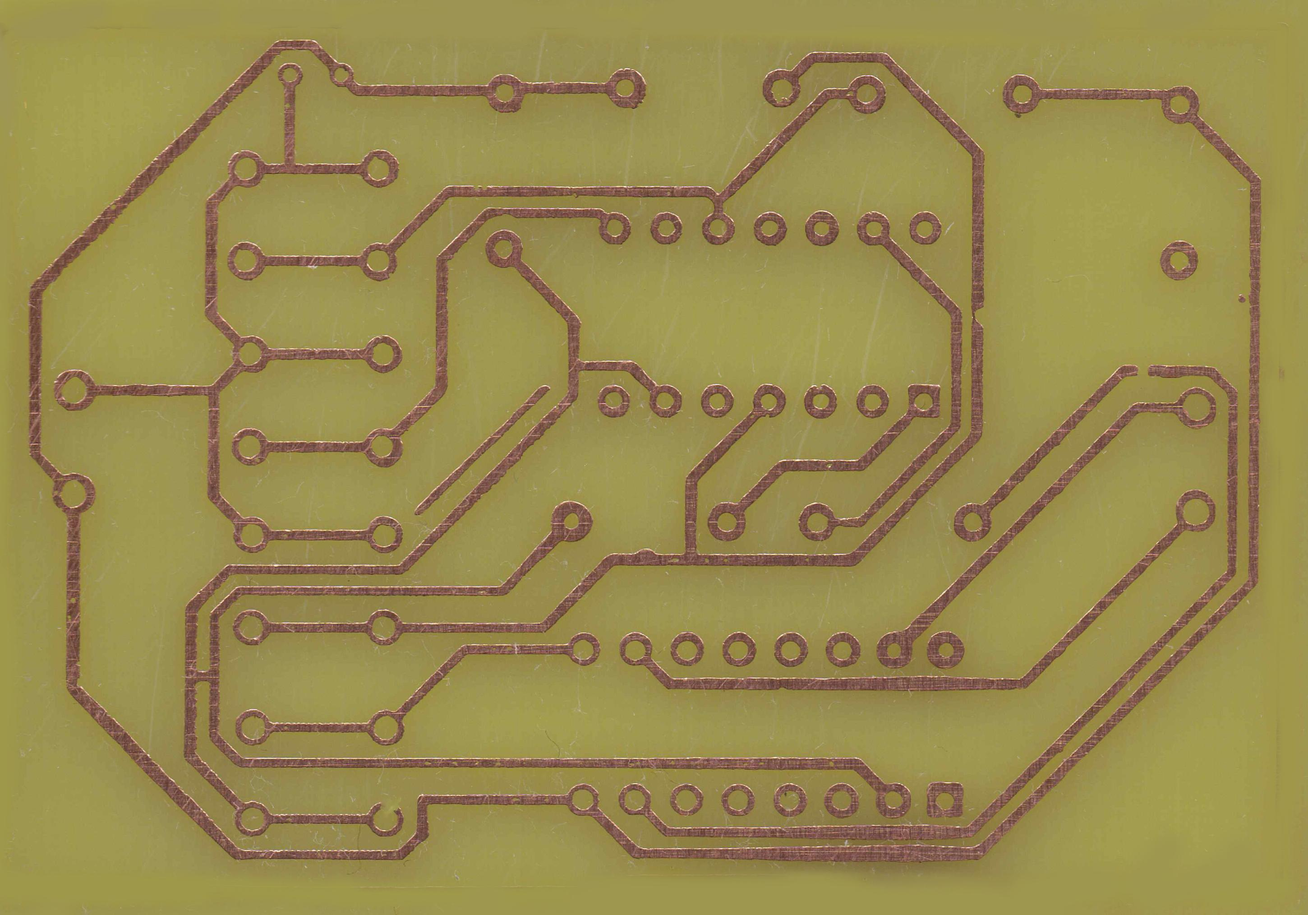missing_hole: (365, 799, 407, 842)
mouse_bite: (967, 298, 989, 333)
open_circuit: (1129, 359, 1160, 384)
short: (182, 661, 225, 687)
spur: (631, 545, 661, 568)
spurious_copper: (403, 379, 553, 519)
